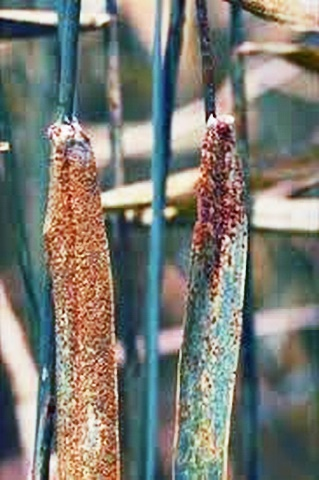Leaf Rust: (37, 144, 124, 473), (165, 117, 254, 383)
